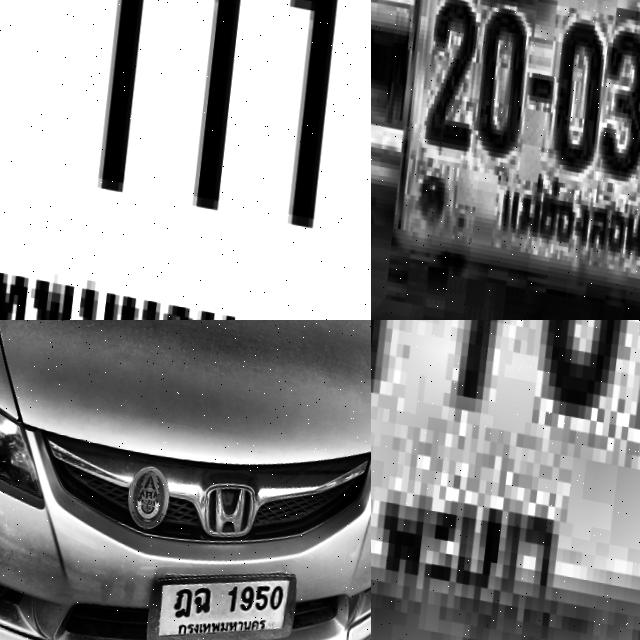license-plate: (0, 0, 371, 320), (371, 0, 640, 320), (371, 320, 640, 640), (138, 543, 302, 640)
